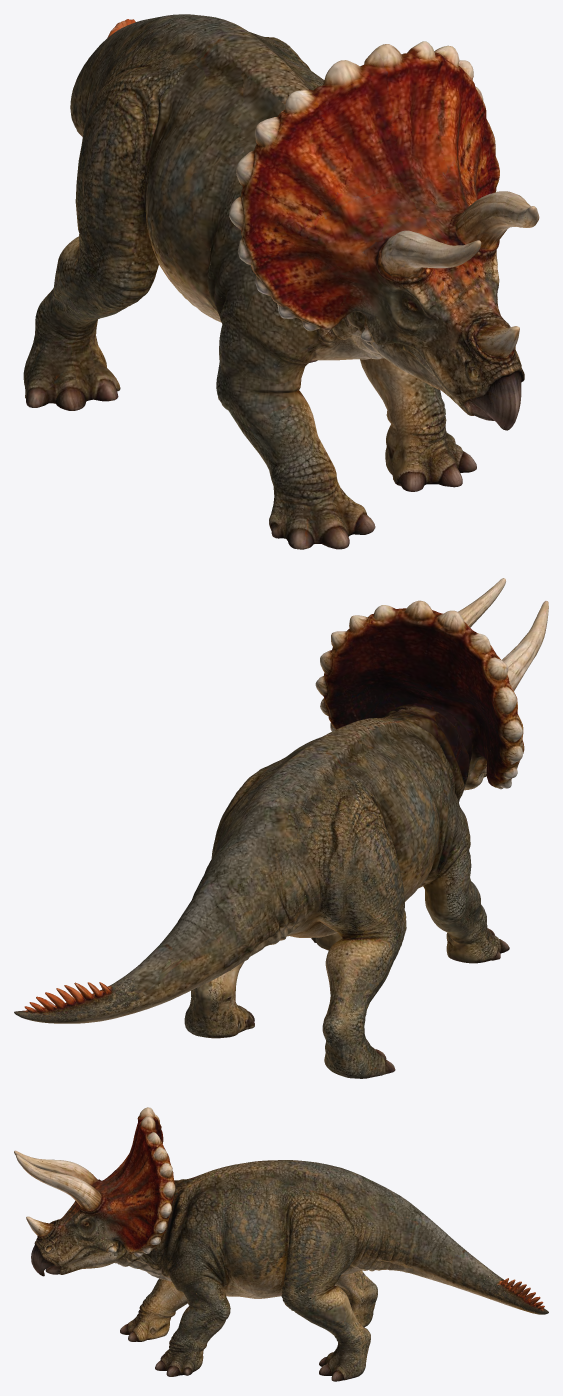
File: triceratops.glb
3 views of the same model, one above another, from view 1: azimuth 30°, elevation 25°; view 2: azimuth 150°, elevation 25°; view 3: azimuth 270°, elevation 25° (orthographic). The views are drawn at different scales.
Visible parts, largest first — view 1: triceratops; view 2: triceratops; view 3: triceratops.
Part boxes in pixels (x1,y1,x2,y2): triceratops: (23,14,539,549); triceratops: (14,578,548,1078); triceratops: (14,1107,548,1381).
Bounding box in the file's own units: 2.94 × 4.08 × 8.5.
Materials: 1 (1 with a texture image).
